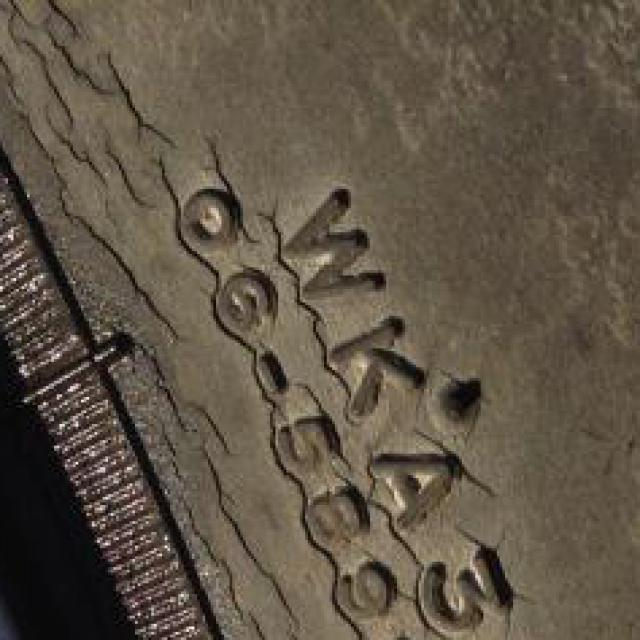Cracks: (0, 0, 578, 637)
